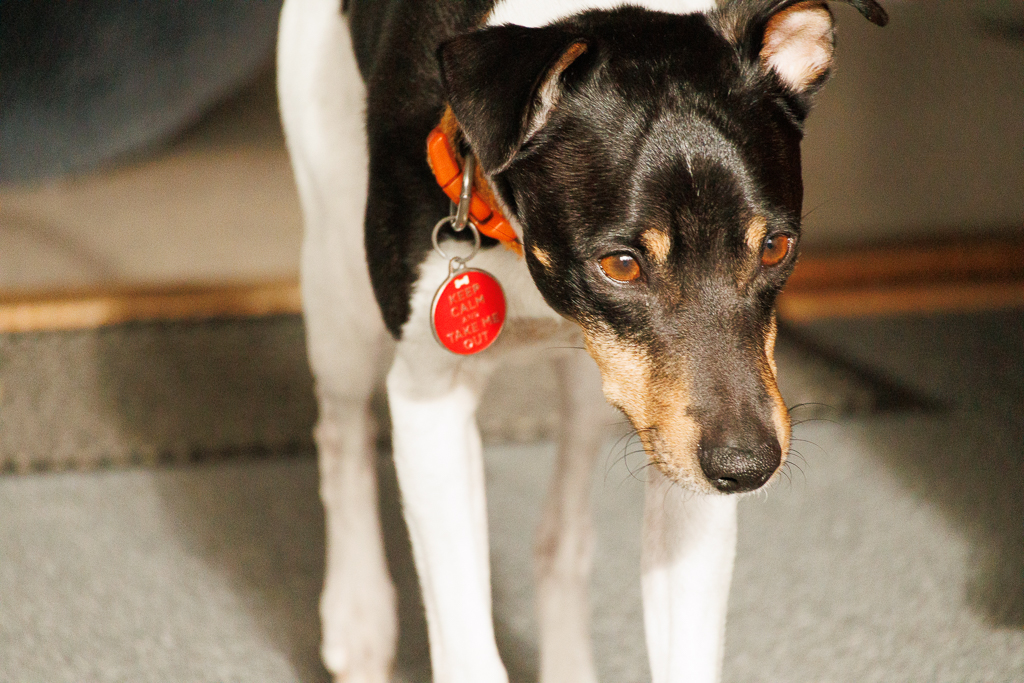Dog: (260, 0, 900, 683)
